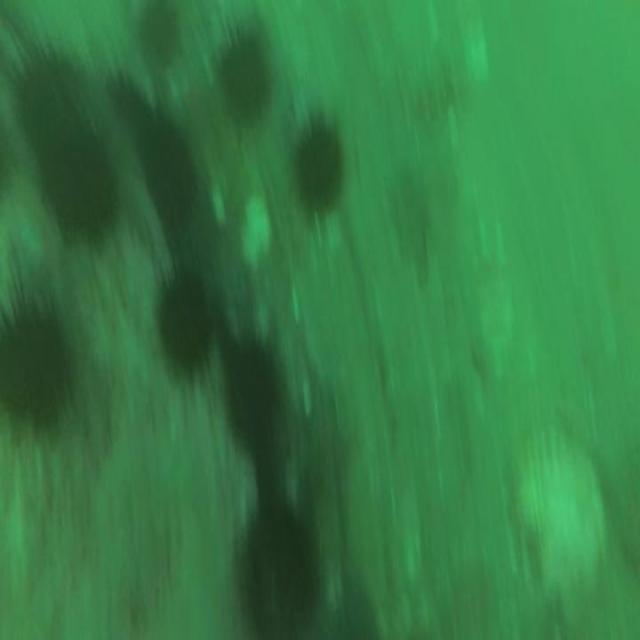holothurian: (36, 130, 114, 246), (244, 512, 314, 640), (1, 310, 67, 428), (138, 110, 196, 222), (11, 59, 79, 150), (226, 343, 276, 449), (160, 273, 210, 376), (292, 119, 343, 214), (217, 35, 272, 120), (140, 0, 182, 65), (111, 74, 145, 128)
